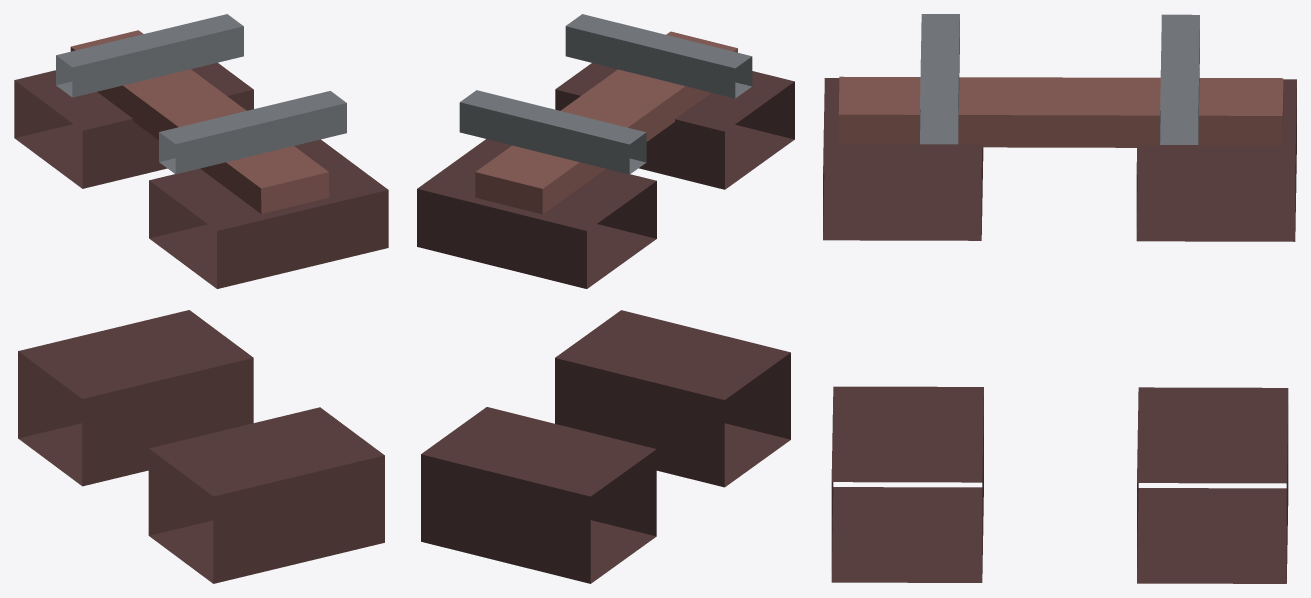
Rendered from TrainTrackSegment.fbx.
3 views of the same model, side by side, from view 1: azimuth 30°, elevation 25°; view 2: azimuth 150°, elevation 25°; view 3: azimuth 270°, elevation 25° (orthographic). The views are drawn at different scales.
Visible parts, largest first — view 1: TrainTrackSegment; view 2: TrainTrackSegment; view 3: TrainTrackSegment.
Boxes of the visible parts, box(x1,y1,x2,y2) form: TrainTrackSegment: box(14, 14, 388, 583); TrainTrackSegment: box(417, 14, 794, 583); TrainTrackSegment: box(823, 14, 1296, 583).
Size of the model in its own units: 97.41 by 221 by 201.
